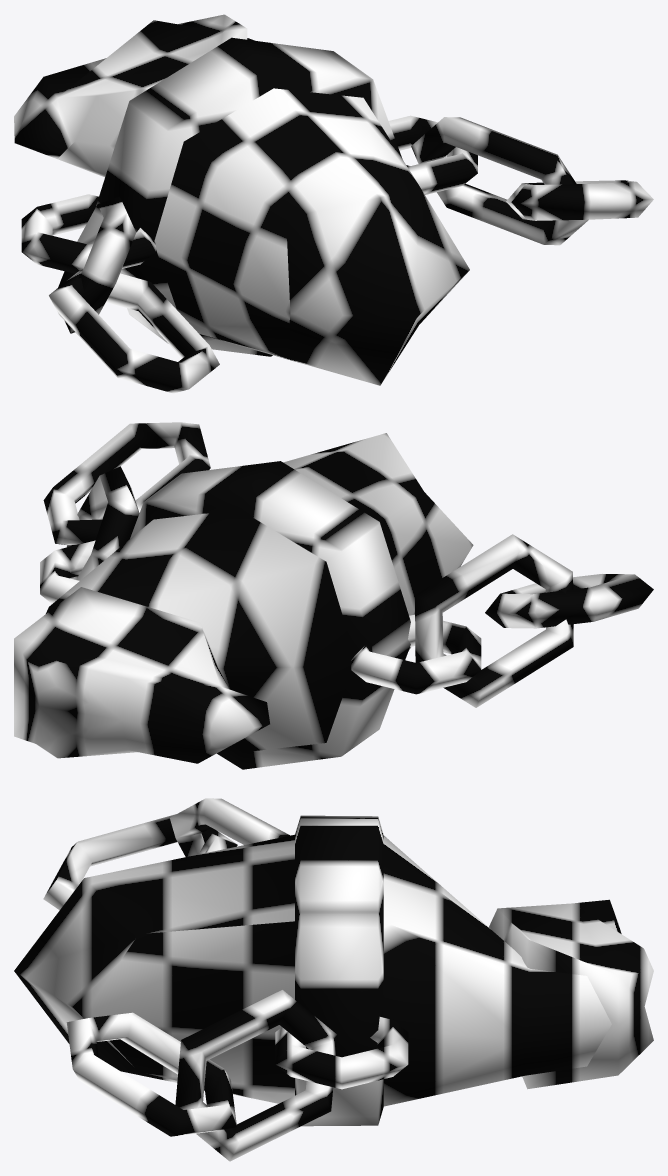
Rendered from initqu75.dae.
The picture shows the model from 3 angles, top to bottom: view 1: azimuth 30°, elevation 25°; view 2: azimuth 150°, elevation 25°; view 3: azimuth 270°, elevation 25°; orthographic projection. The views are drawn at different scales.
Parts seen in each view (by area): view 1: item; view 2: item; view 3: item.
Boxes of the visible parts, x1=… form: item: x1=14, y1=14, x2=653, y2=393; item: x1=14, y1=422, x2=653, y2=769; item: x1=14, y1=798, x2=653, y2=1161.
Size of the model in its own units: 1.65 by 1.59 by 0.7859.
1 material, 1 textured.
